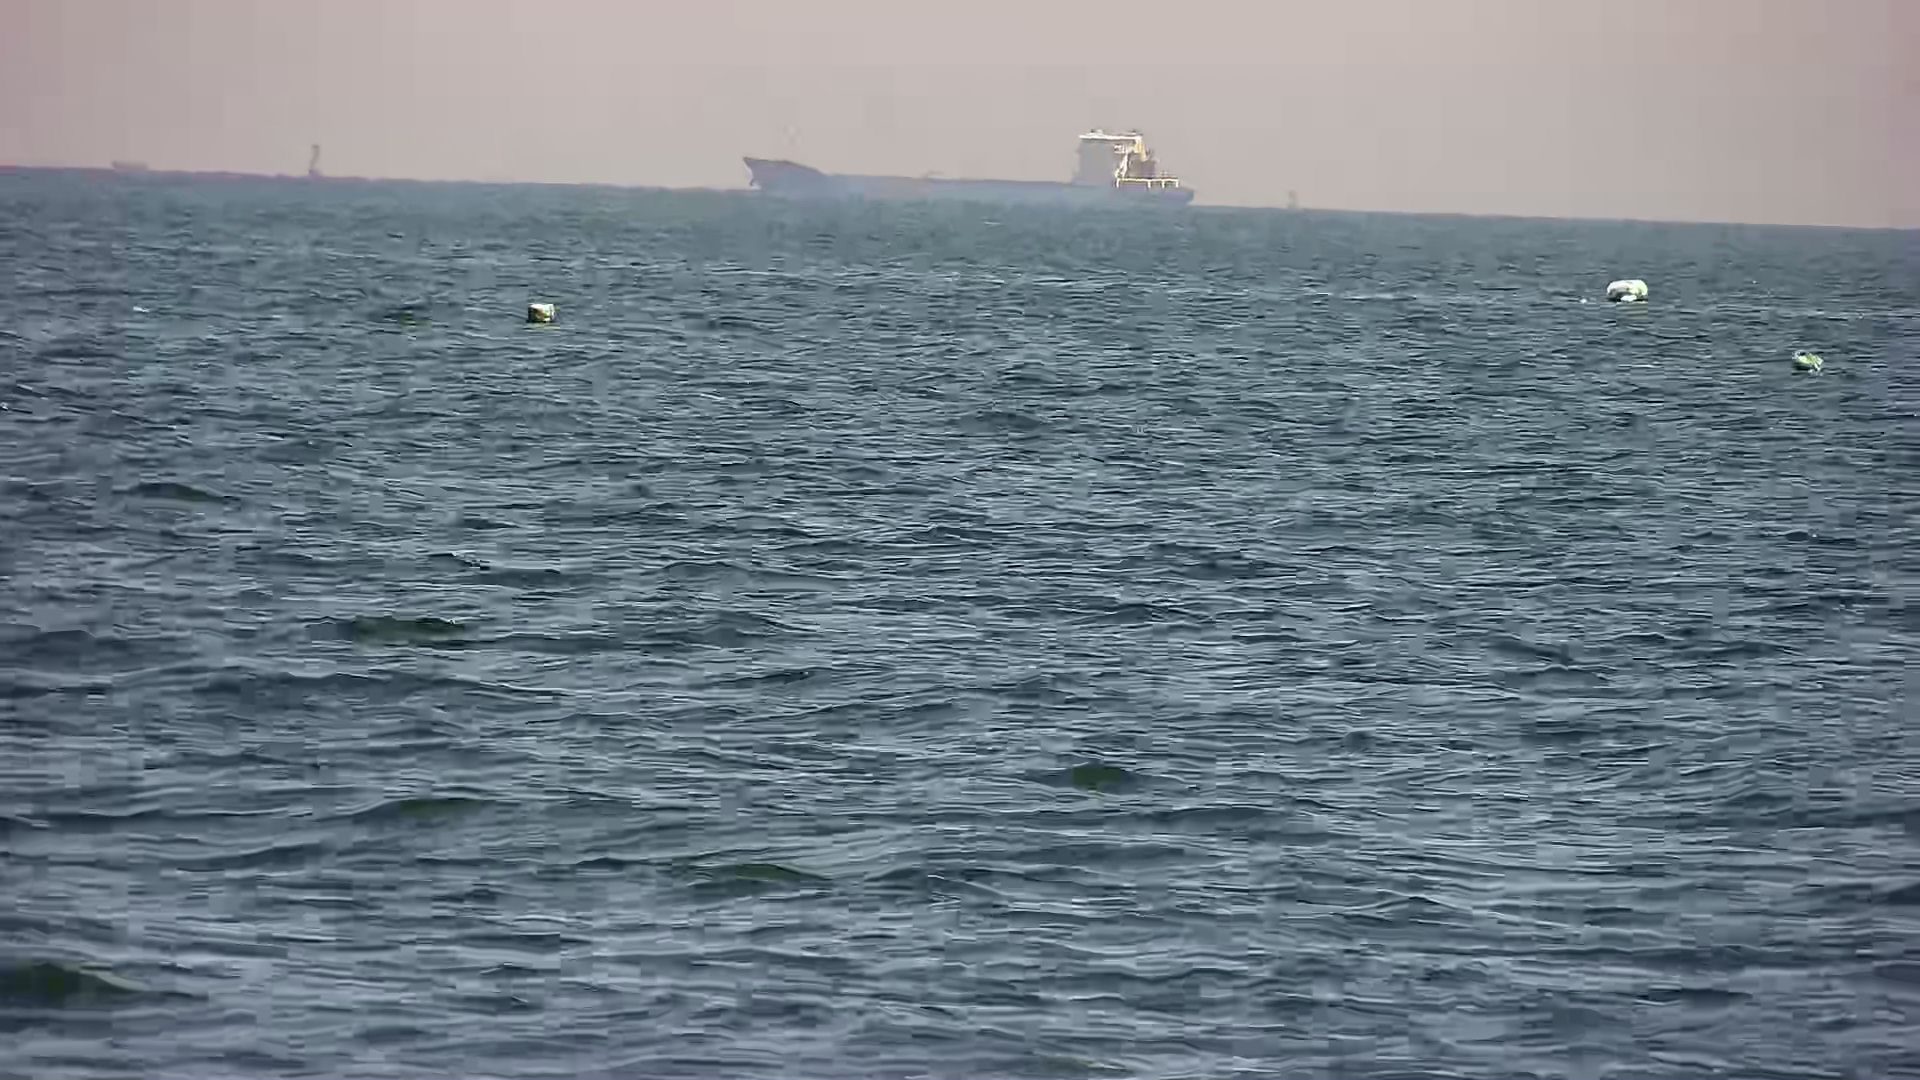rubbish: (1590, 258, 1669, 313), (1774, 338, 1836, 384), (518, 291, 562, 324)
ship: (723, 117, 1220, 215)
